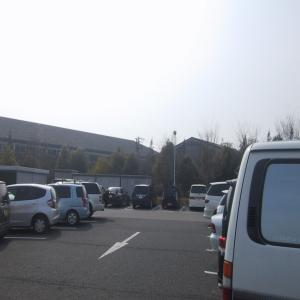Vehicle-registration-plate: (168, 203, 173, 207)
